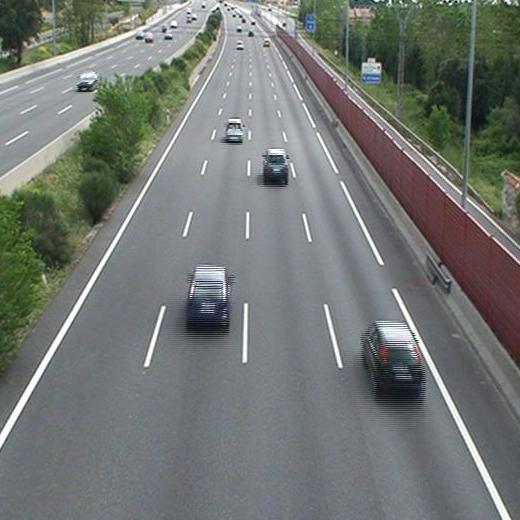car: (363, 321, 423, 386), (187, 267, 229, 323), (263, 150, 289, 179), (225, 120, 245, 140), (235, 40, 243, 50)
